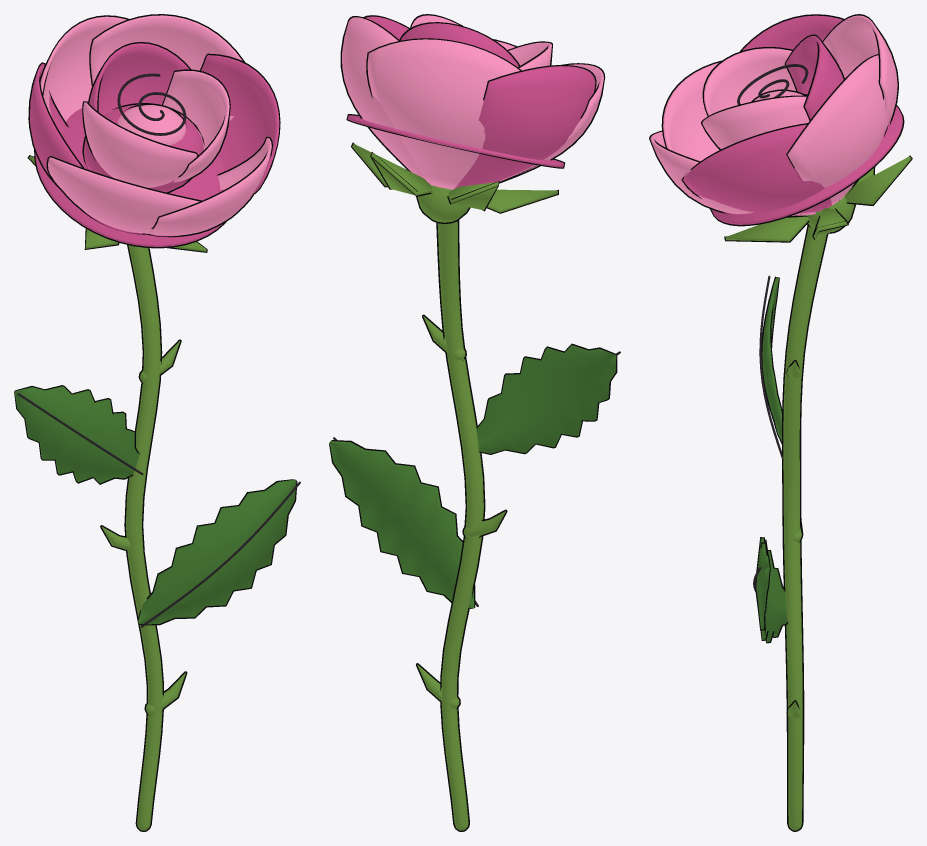
The model's file is rose_pink.glb.
3 views of the same model, side by side, from view 1: azimuth 30°, elevation 25°; view 2: azimuth 150°, elevation 25°; view 3: azimuth 270°, elevation 25° (orthographic). The views are drawn at different scales.
Parts seen in each view (by area): view 1: Serrated_leaf_2, Curved_stem, Serrated_leaf_1, Outer_petal_3, Outer_petal_1, Inner_petal_2, Outer_petal_6, Closed_corolla_base, Inner_petal_3, Outer_petal_2, Inner_petal_1, Outer_petal_5 (+6 smaller); view 2: Outer_petal_5, Curved_stem, Serrated_leaf_2, Serrated_leaf_1, Outer_petal_4, Outer_petal_6, Inner_petal_3, Closed_corolla_base, Outer_petal_3, Calyx_sepal_4, Calyx_base, Calyx_sepal_2 (+4 smaller); view 3: Curved_stem, Outer_petal_6, Outer_petal_1, Inner_petal_2, Outer_petal_5, Inner_petal_1, Outer_petal_3, Inner_petal_3, Closed_corolla_base, Serrated_leaf_2, Outer_petal_4, Outer_petal_2 (+7 smaller).
Part boxes in pixels (x1,y1,x2,y2): Serrated_leaf_2: (137,479,297,625); Curved_stem: (124,245,163,831); Serrated_leaf_1: (14,385,139,484); Outer_petal_3: (46,156,201,234); Outer_petal_1: (200,53,280,195); Inner_petal_2: (82,101,198,187); Outer_petal_6: (89,14,245,121); Closed_corolla_base: (34,108,226,248); Inner_petal_3: (88,42,191,115); Outer_petal_2: (142,136,272,237); Inner_petal_1: (162,69,230,182); Outer_petal_5: (40,15,128,121); Outer_petal_5: (366,38,521,189); Curved_stem: (436,220,485,831); Serrated_leaf_2: (329,440,475,608); Serrated_leaf_1: (476,343,617,454); Outer_petal_4: (454,65,596,188); Outer_petal_6: (340,16,428,182); Inner_petal_3: (399,22,519,66); Closed_corolla_base: (346,114,565,168); Outer_petal_3: (499,63,605,183); Calyx_sepal_4: (370,152,432,196); Calyx_base: (416,185,470,223); Calyx_sepal_2: (487,189,558,213); Curved_stem: (782,224,828,831); Outer_petal_6: (786,54,889,205); Outer_petal_1: (681,123,839,215); Inner_petal_2: (702,47,795,116); Outer_petal_5: (822,14,898,186); Inner_petal_1: (701,95,809,149); Outer_petal_3: (661,60,721,161); Inner_petal_3: (784,34,844,120); Closed_corolla_base: (710,105,904,226); Serrated_leaf_2: (755,537,788,643); Outer_petal_4: (739,14,843,51); Outer_petal_2: (649,130,815,217).
Size of the model in its own units: 0.1925 by 0.5201 by 0.156.
